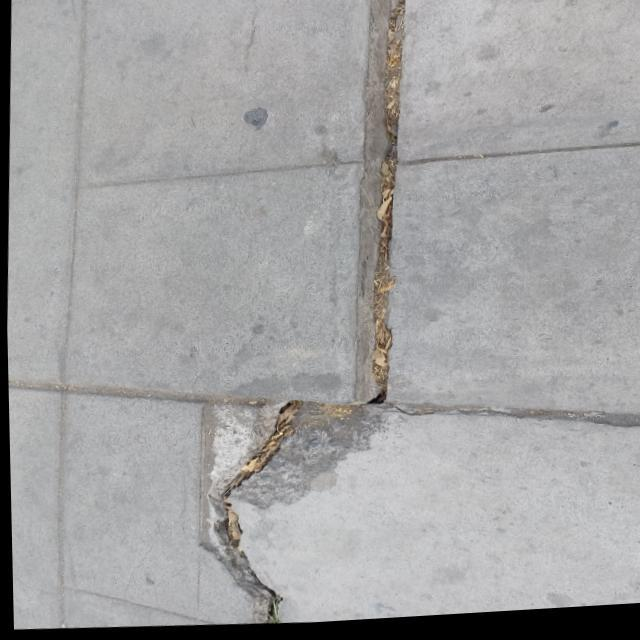hole: (185, 396, 375, 632), (332, 0, 436, 408)
